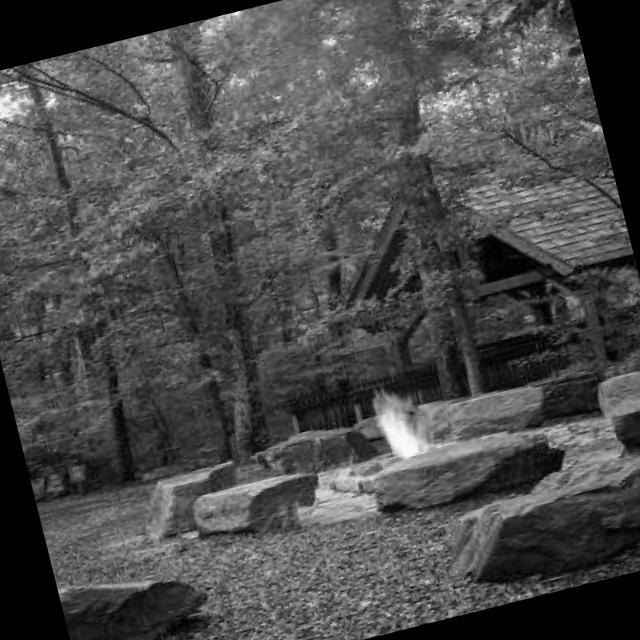fire: (346, 354, 452, 484)
